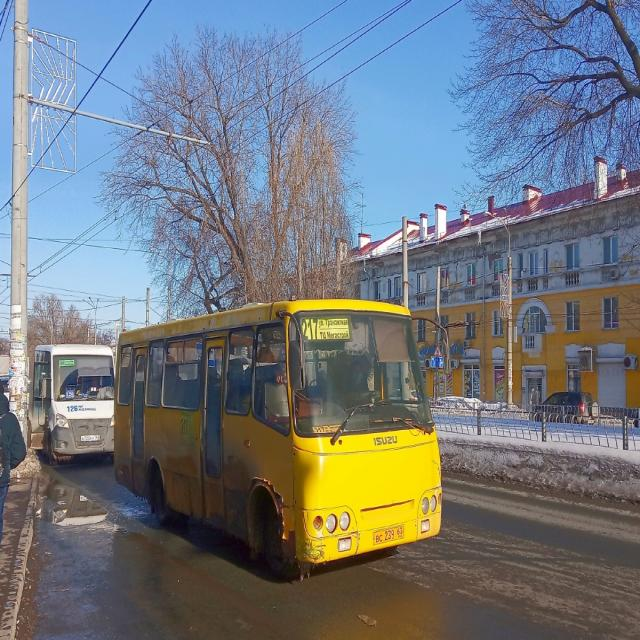number-of-bus: (301, 316, 319, 342)
